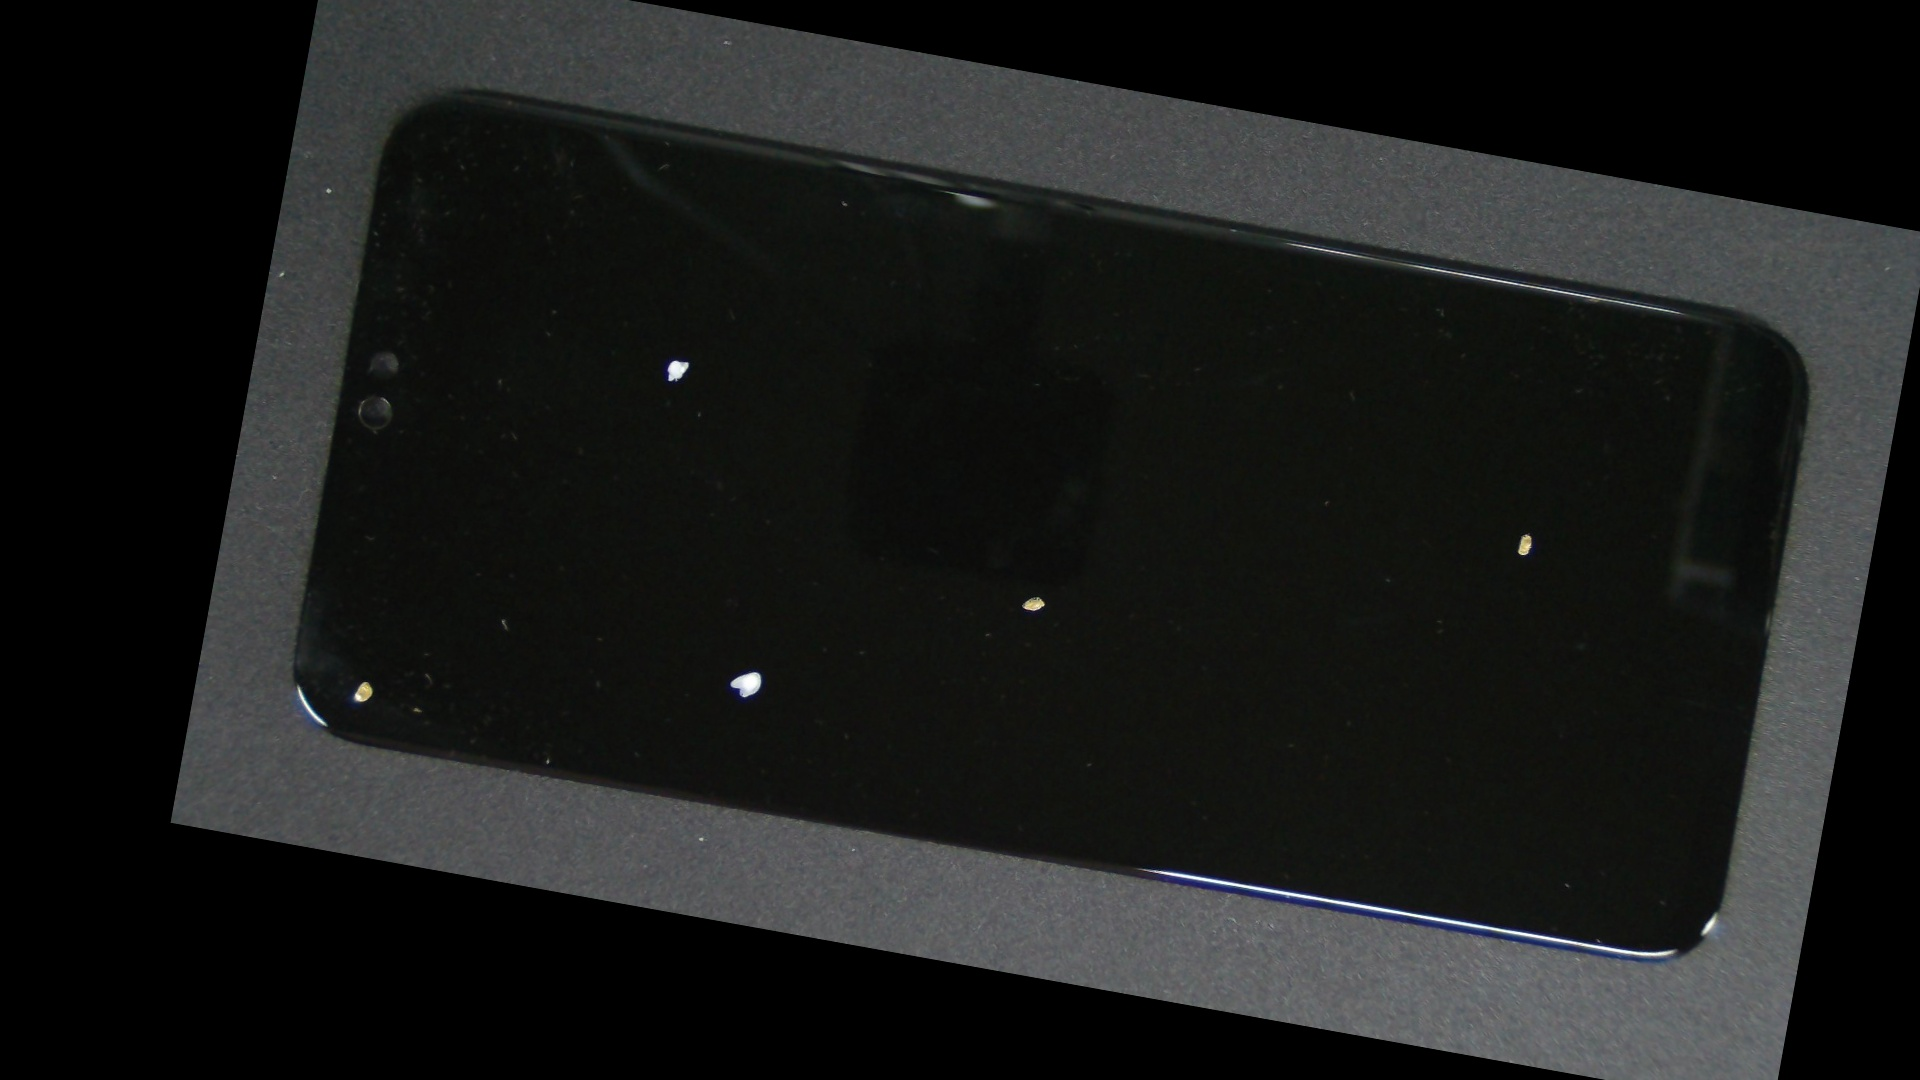oil: (593, 272, 1487, 922), (865, 239, 1898, 773), (440, 309, 1079, 968), (442, 152, 911, 566), (253, 313, 510, 866)
